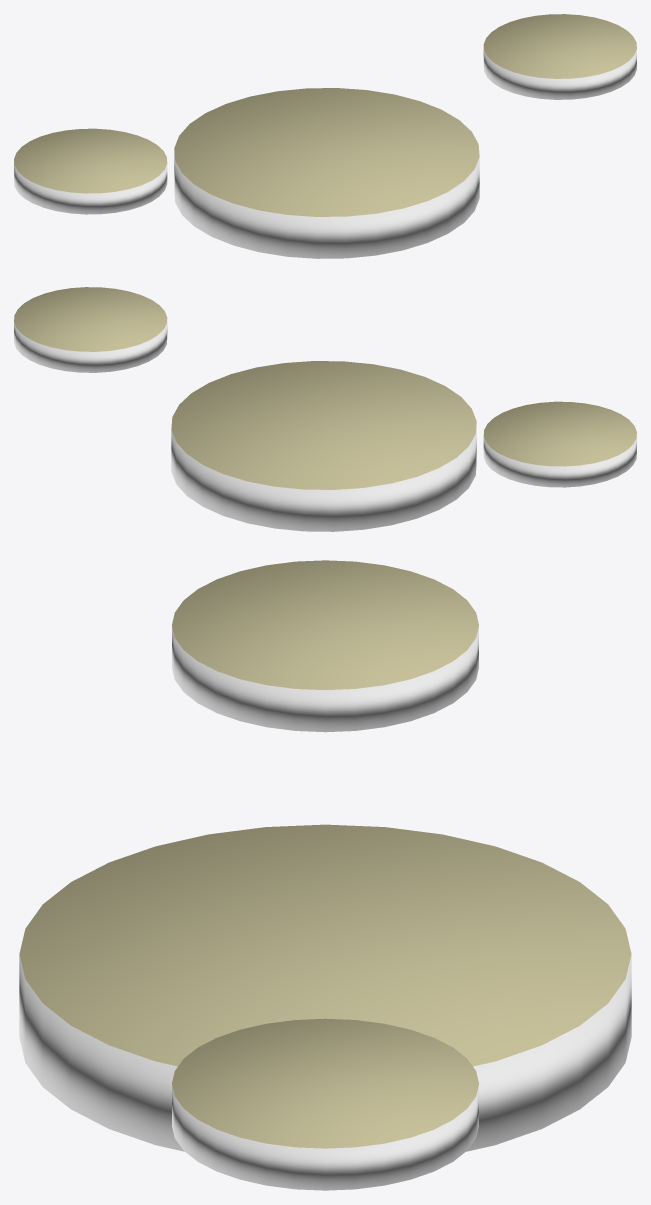
Rendered from Torres 3 plataformas.fbx.
The picture shows the model from 3 angles, top to bottom: view 1: azimuth 30°, elevation 25°; view 2: azimuth 150°, elevation 25°; view 3: azimuth 270°, elevation 25°; orthographic projection. The views are drawn at different scales.
Parts seen in each view (by area): view 1: Piso, Piso.002, Piso.001; view 2: Piso, Piso.002, Piso.001; view 3: Piso, Piso.001, Piso.002.
Boxes of the visible parts, x1,y1,x2,y2 form: Piso: (174, 88, 479, 258); Piso.002: (14, 128, 167, 214); Piso.001: (483, 14, 636, 99); Piso: (171, 361, 476, 531); Piso.002: (483, 401, 636, 487); Piso.001: (14, 287, 167, 372); Piso: (19, 824, 631, 1151); Piso.001: (172, 1018, 478, 1190); Piso.002: (172, 560, 478, 732).
Size of the model in its own units: 1444 by 208 by 635.
